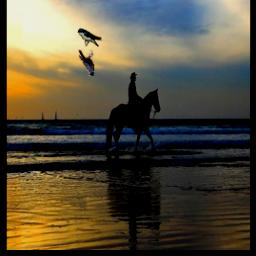Crow: (79, 50, 95, 77)
Swallow: (77, 29, 102, 47)
